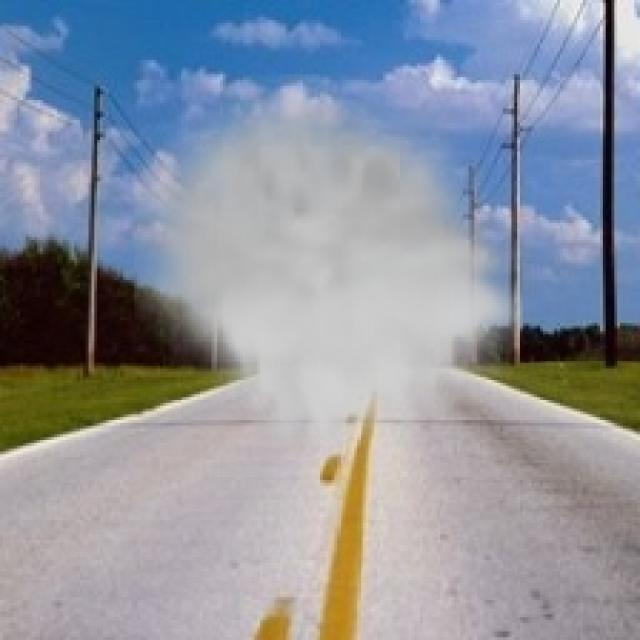Smoke: (134, 74, 523, 466)
